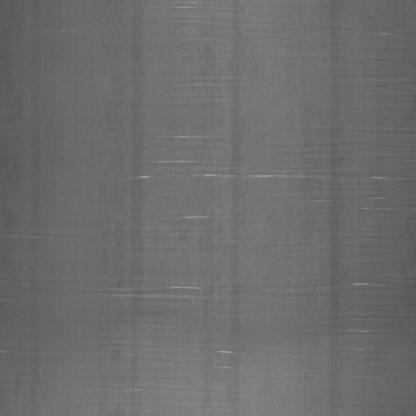waist_folding: (90, 24, 391, 354)
